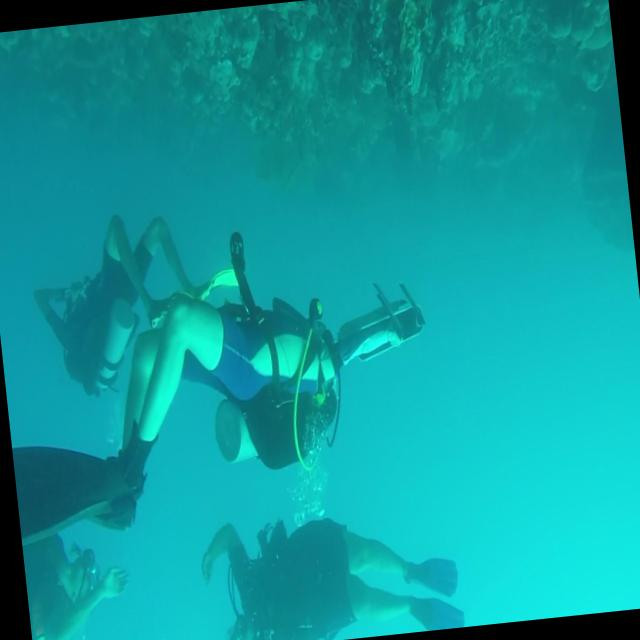human: (0, 221, 350, 546), (195, 498, 465, 640), (25, 206, 208, 404), (21, 526, 136, 640)
